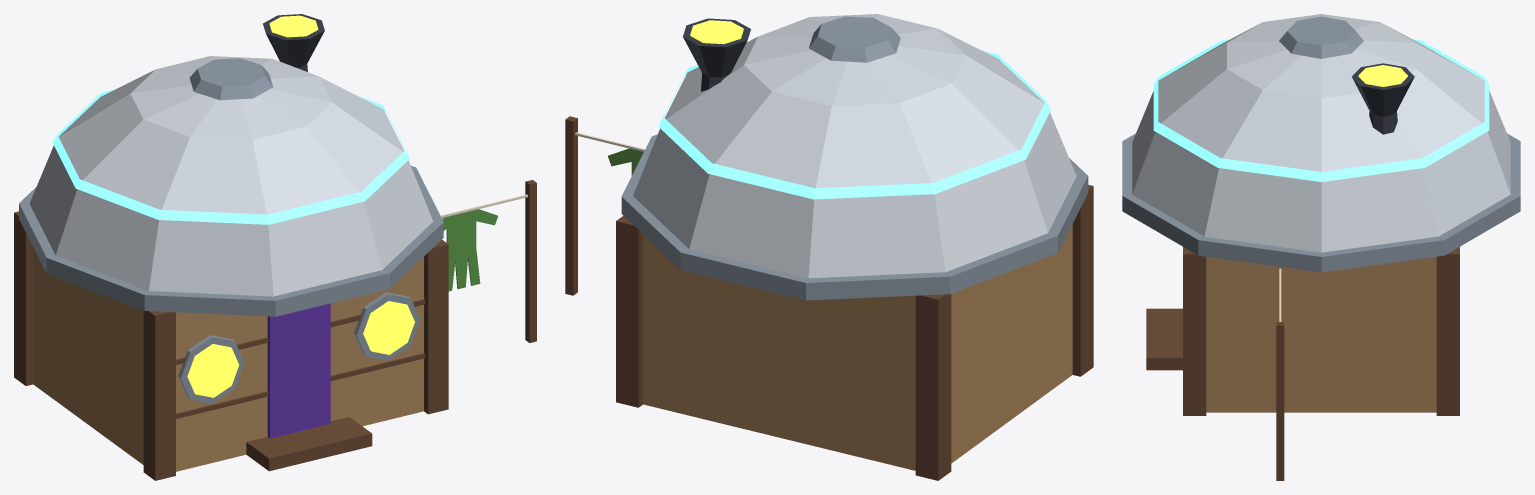
File: Bldg_Home_PodCabin.fbx
3 renders of one model, left to right at view 1: azimuth 30°, elevation 25°; view 2: azimuth 150°, elevation 25°; view 3: azimuth 270°, elevation 25°, orthographic. The views are drawn at different scales.
Visible parts, largest first — view 1: Bldg_Home_PodCabin_Body, Bldg_Home_PodCabin_Door; view 2: Bldg_Home_PodCabin_Body; view 3: Bldg_Home_PodCabin_Body.
Boxes of the visible parts, bbox=[...] form: Bldg_Home_PodCabin_Body: bbox=[14, 14, 536, 480]; Bldg_Home_PodCabin_Door: bbox=[267, 303, 330, 438]; Bldg_Home_PodCabin_Body: bbox=[565, 14, 1093, 480]; Bldg_Home_PodCabin_Body: bbox=[1122, 14, 1520, 480].
Size of the model in its own units: 7.71 by 5.07 by 5.8.
